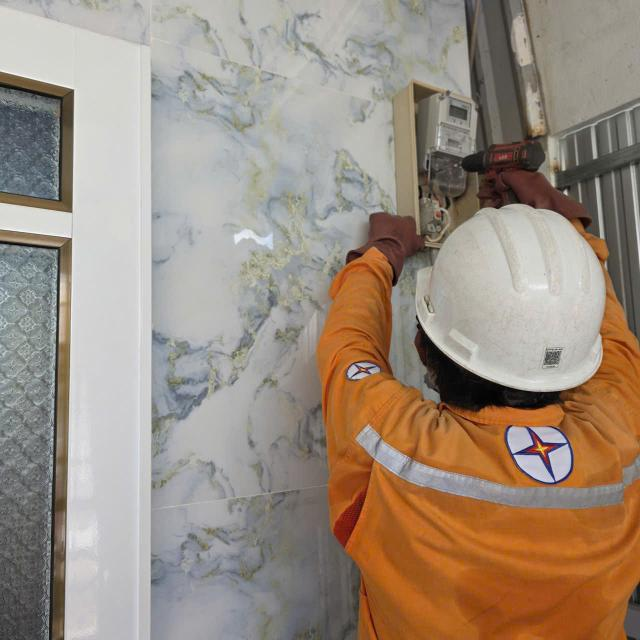gloves: (340, 188, 425, 305), (473, 168, 603, 232)
helmet: (394, 201, 614, 399)
